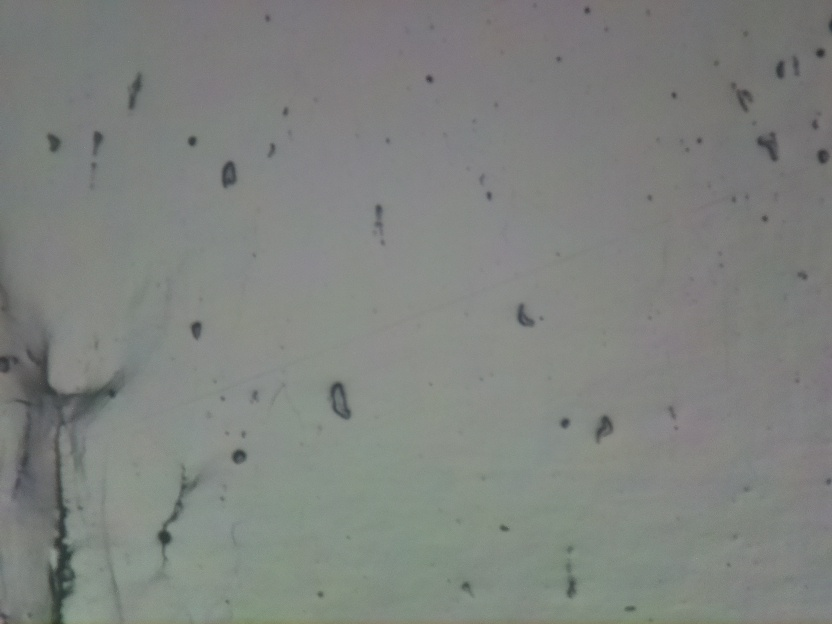crack: (41, 415, 75, 624), (155, 466, 203, 559)
